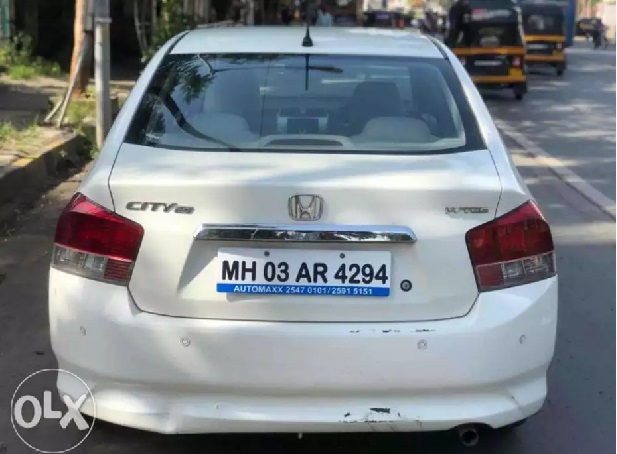licenseplate: (214, 242, 397, 295)
